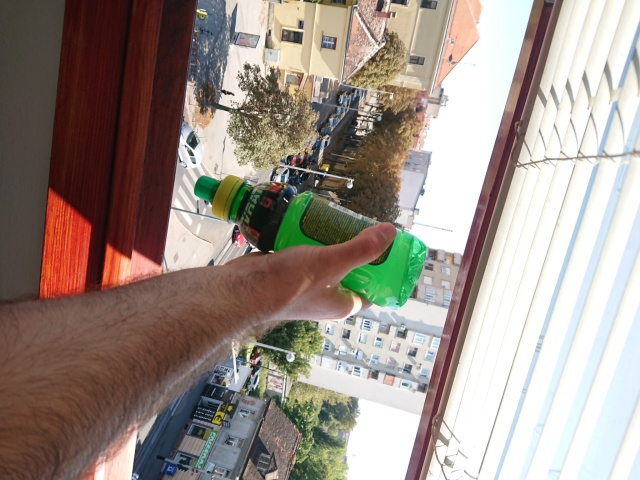Vindi Iso Sport Lemon-Grapefruit 500mL: (191, 173, 429, 310)
